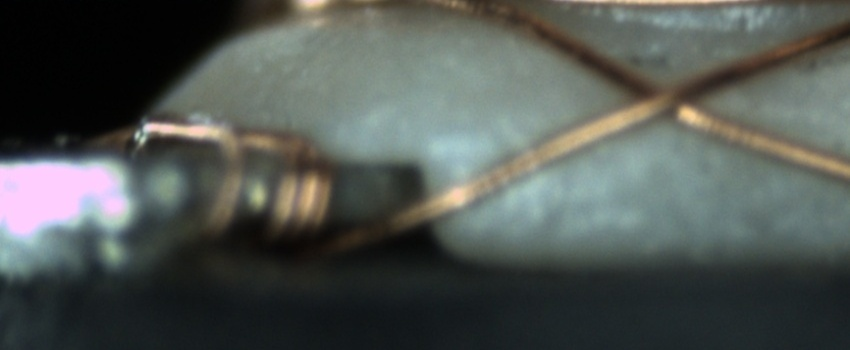CL: (595, 55, 741, 138)
TE: (102, 111, 346, 243)
